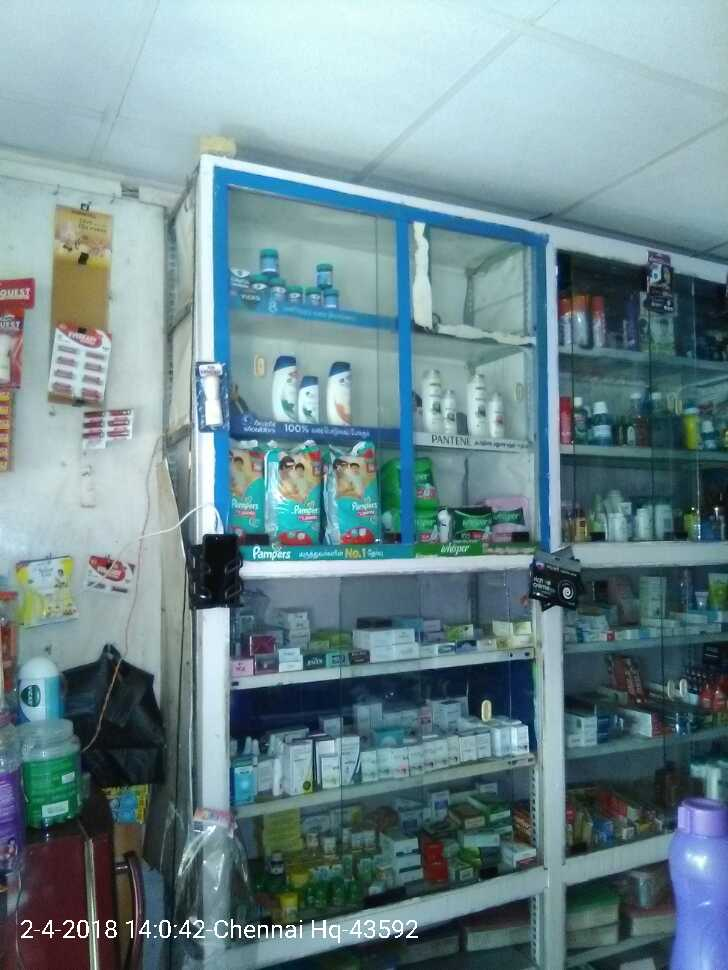vicks: (230, 247, 340, 311)
